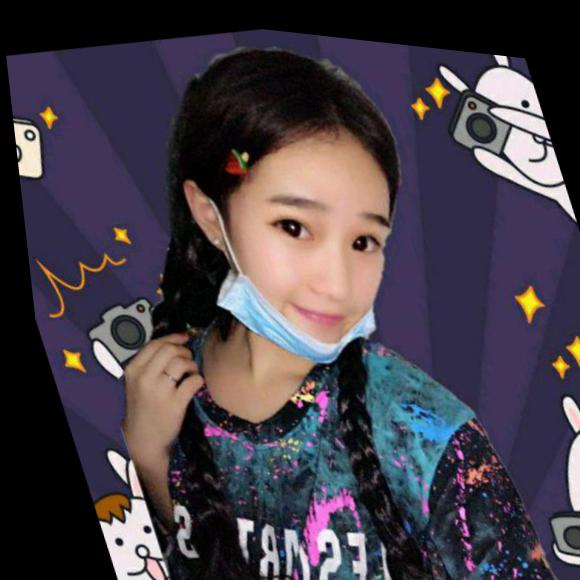WRONG: (199, 135, 429, 375)
